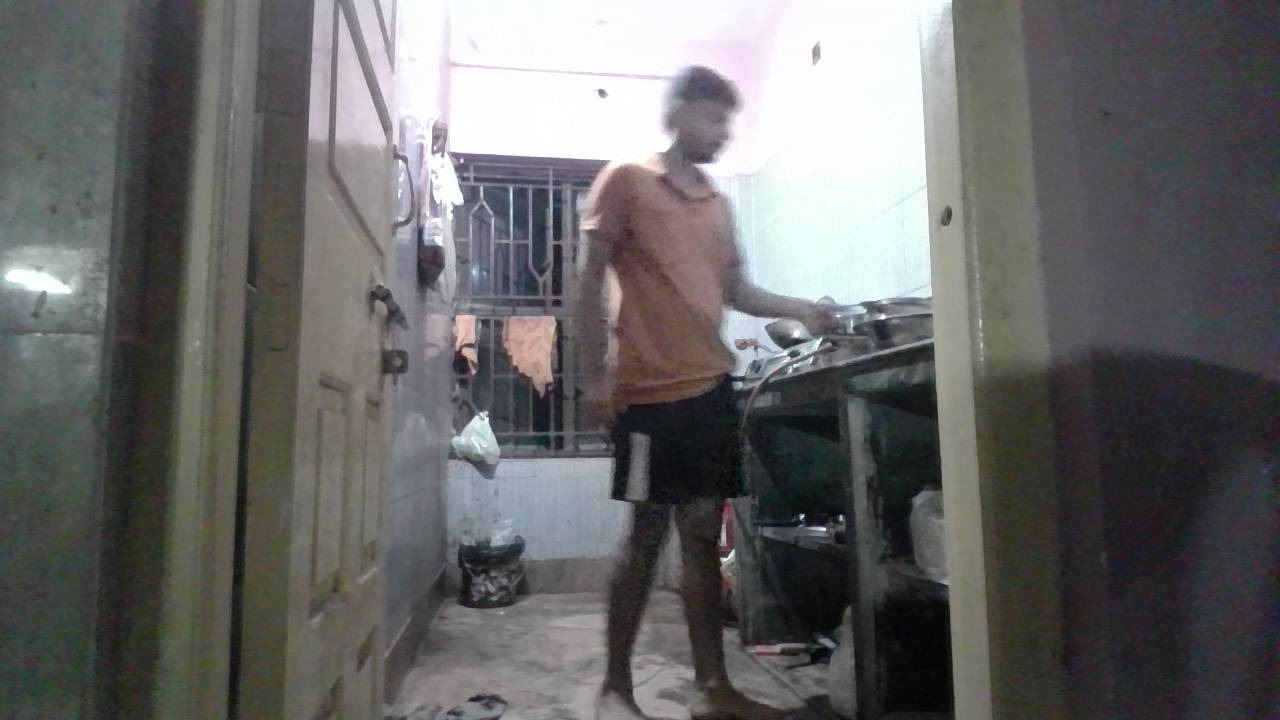red_box: (614, 349, 672, 407)
